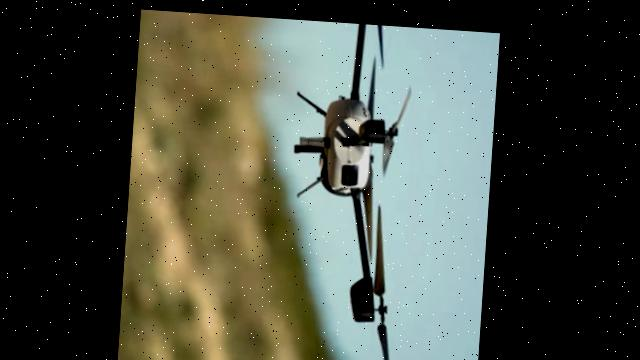drone: (268, 15, 459, 360)
